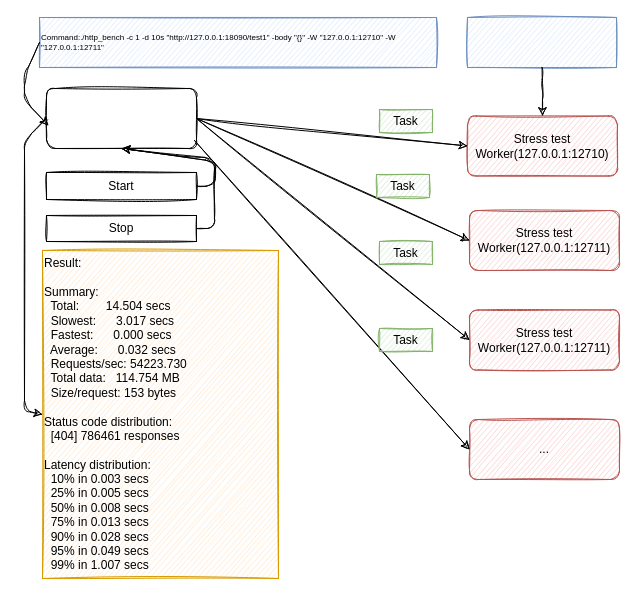
Image size: 637x596. Some labels were removed from this diagram. The box of each missing label's shape, as (x1, y1, x2, y2) in pixels:
Command:./http_bench -listen "127.0.0.1:12710" -verbose true: (466, 16, 616, 68)
Stress test Collector(127.0.0.1): (46, 88, 196, 148)
